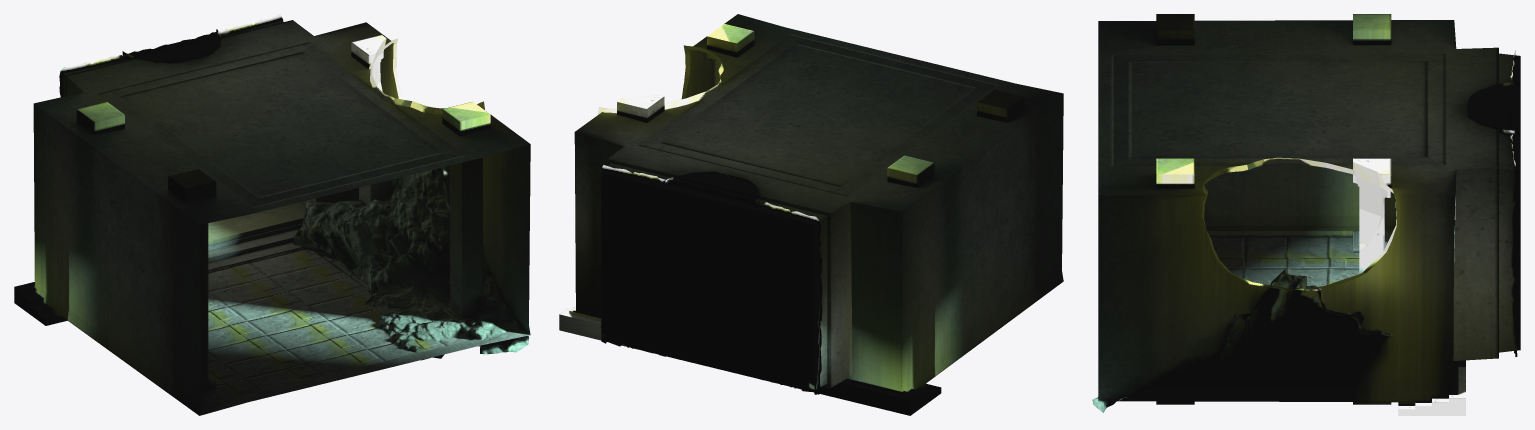
File: dnd_typeshyt-02a.glb
3 views of the same model, side by side, from view 1: azimuth 30°, elevation 25°; view 2: azimuth 150°, elevation 25°; view 3: azimuth 270°, elevation 25° (orthographic). The views are drawn at different scales.
Visible parts, largest first — view 1: mountainside_LOD0.002; view 2: mountainside_LOD0.002; view 3: mountainside_LOD0.002.
Part boxes in pixels (x1,y1,x2,y2): mountainside_LOD0.002: (14, 14, 530, 415); mountainside_LOD0.002: (559, 14, 1063, 415); mountainside_LOD0.002: (1092, 14, 1520, 415).
Bounding box in the file's own units: 4.55 × 2.63 × 4.39.
1 material, 1 textured.
